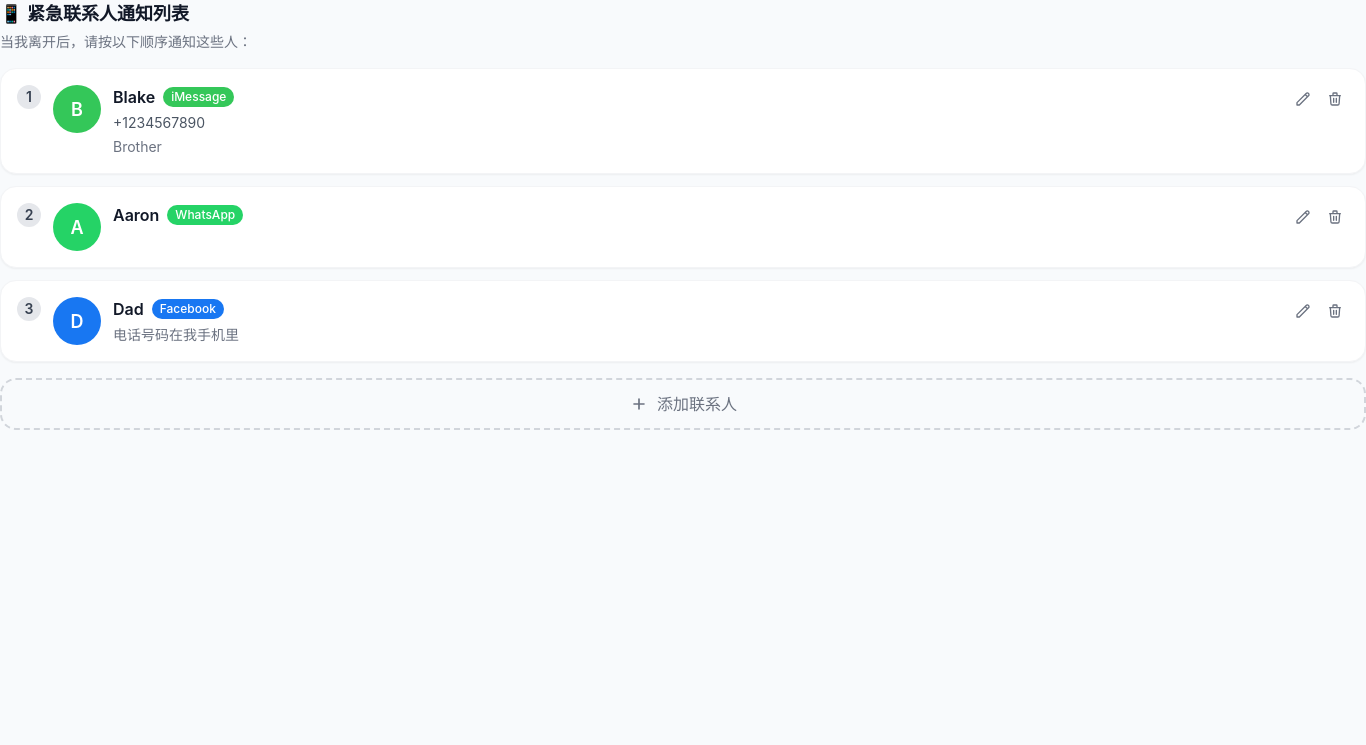
ContactBubbleList › Add Contact › should hide add button when form is shown
Click the button with test id "add-contact-button" at (683, 404), box [0,378,1365,430]
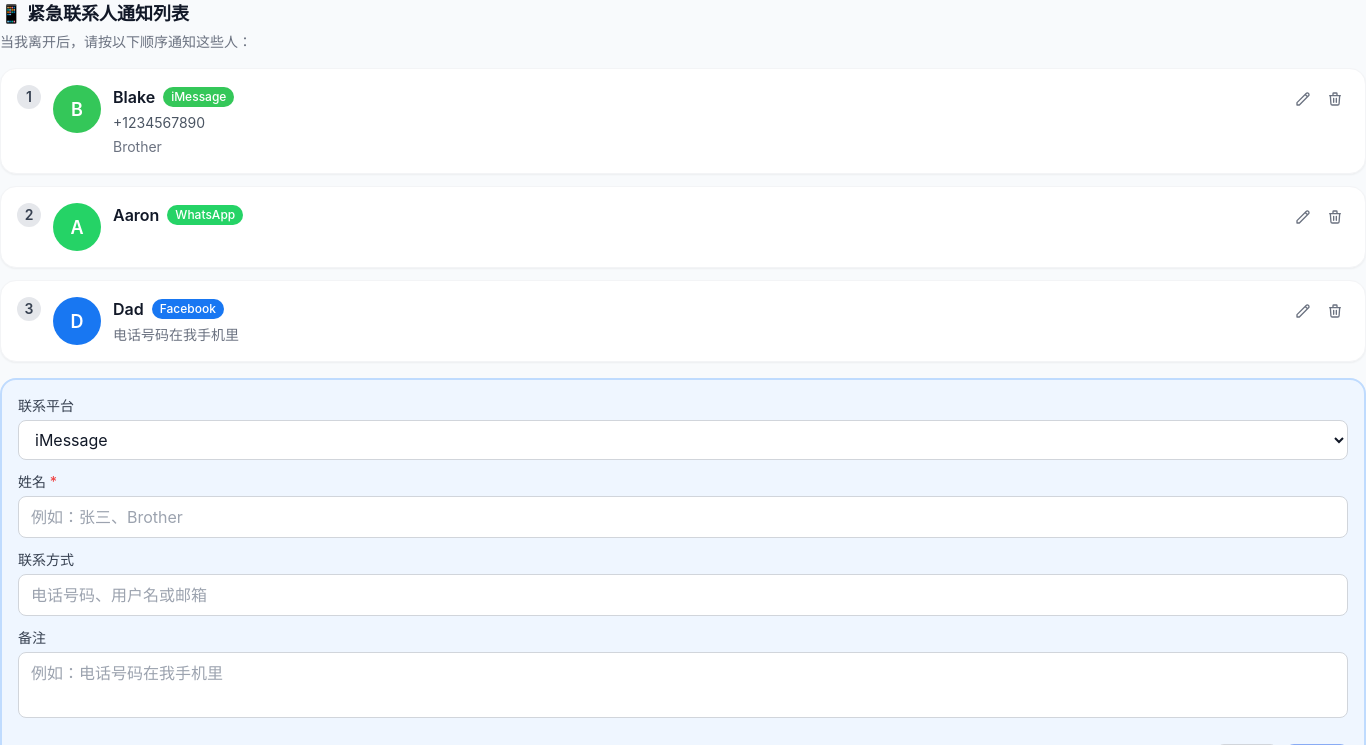
Check: the button with test id "add-contact-button" is gone
